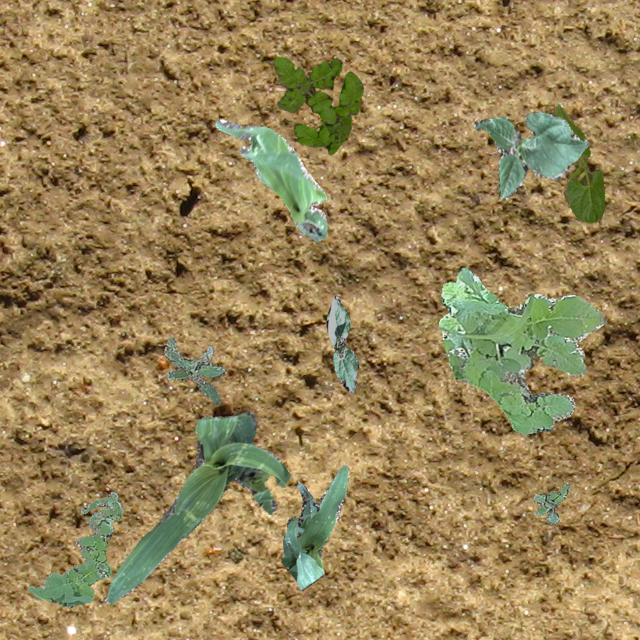crop: (104, 411, 288, 604), (214, 118, 326, 240), (472, 110, 588, 200), (280, 464, 348, 590), (552, 102, 604, 222), (326, 296, 358, 392)
weed: (438, 266, 606, 434), (27, 491, 122, 606), (272, 56, 362, 152), (163, 336, 224, 404), (532, 482, 568, 524)
